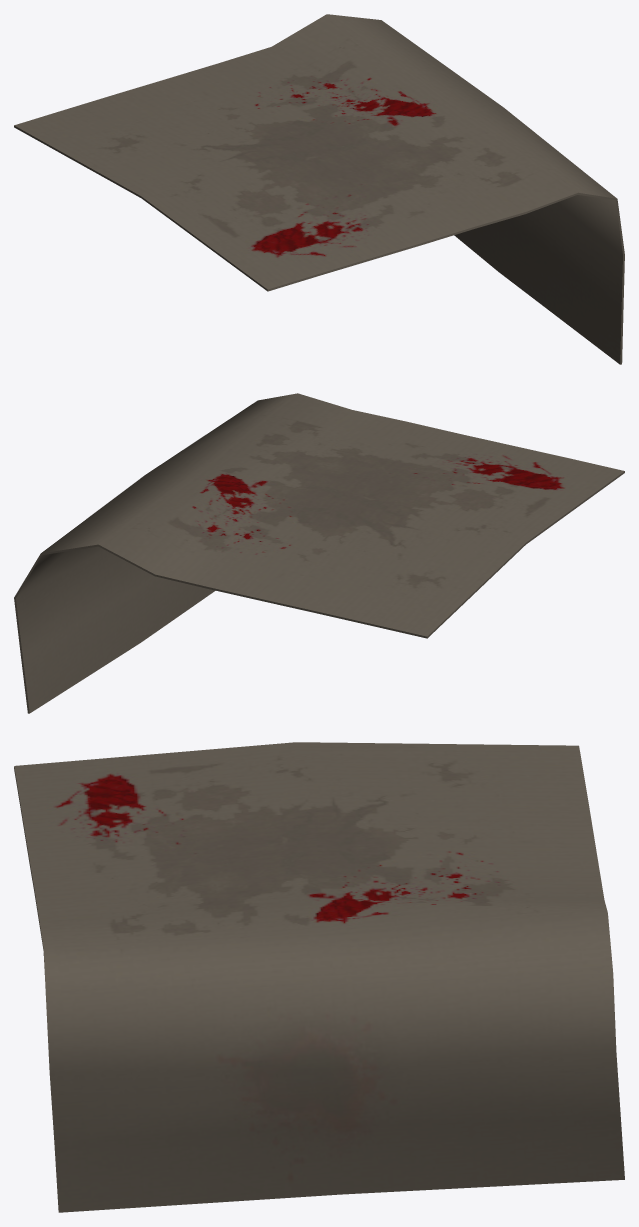
File: bloody cloth.FBX
3 views of the same model, one above another, from view 1: azimuth 30°, elevation 25°; view 2: azimuth 150°, elevation 25°; view 3: azimuth 270°, elevation 25° (orthographic). The views are drawn at different scales.
Parts seen in each view (by area): view 1: Plane001; view 2: Plane001; view 3: Plane001.
Part boxes in pixels (left/top/right/bottom): Plane001: left=14, top=14, right=624, bottom=364; Plane001: left=14, top=393, right=624, bottom=713; Plane001: left=14, top=742, right=624, bottom=1212.
Size of the model in its own units: 0.2119 by 0.1024 by 0.222.
Materials: 1 (1 with a texture image).
